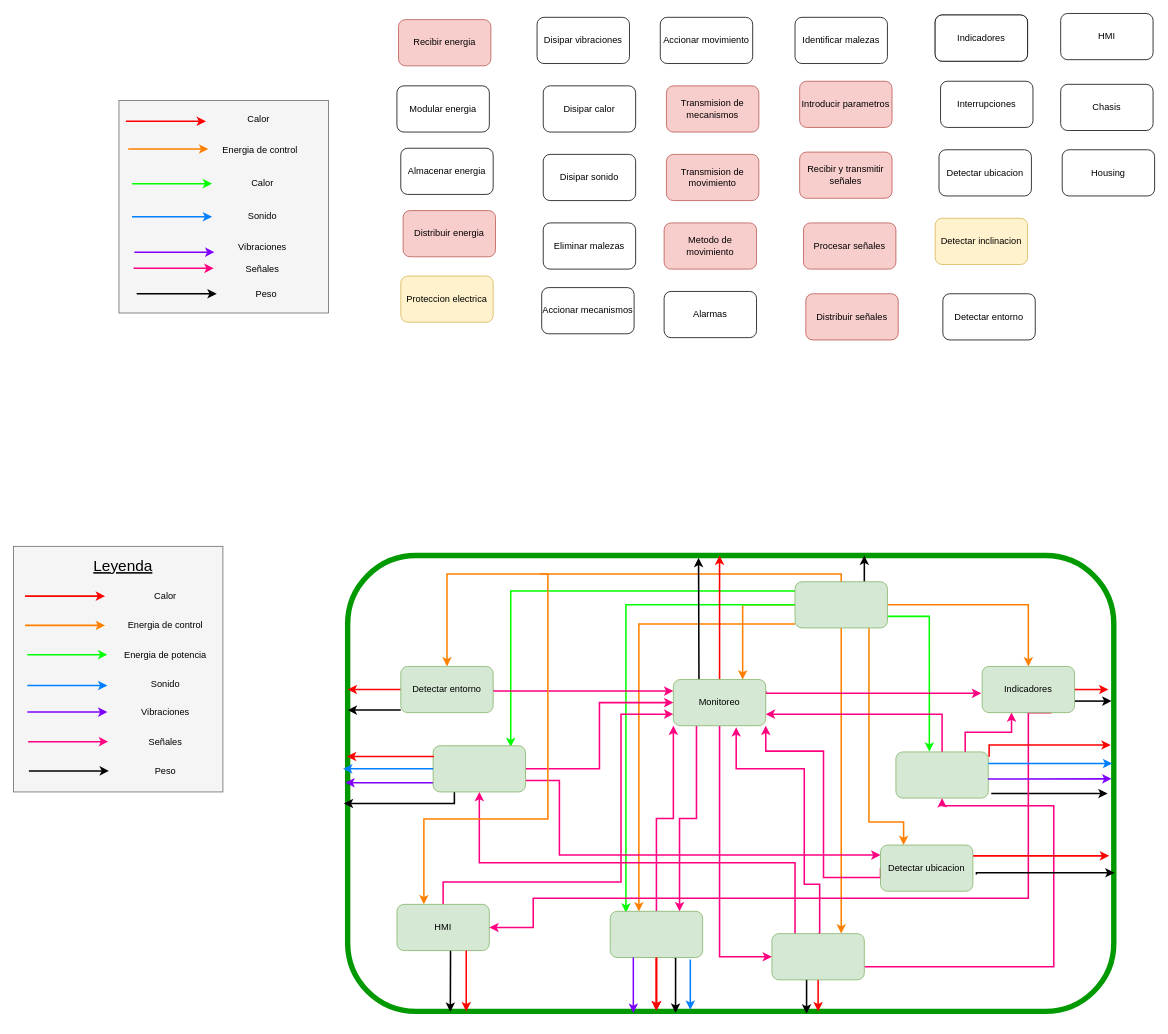
This 1168x1034 diagram has some shape labels left out. The shapes that lost their labels are listed below. From the top down, each one's centre as x and y in pixels, then its label:
At (840,604): "Energia".
At (479,768): "Desplazamiento".
At (941,774): "Eliminacion de maleza".
At (656,934): "Seguridad".
At (817,956): "Control".
